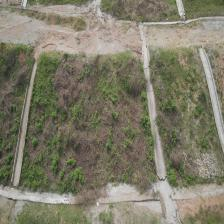slope drain: (12, 58, 38, 189), (141, 47, 167, 175), (199, 48, 224, 154)
